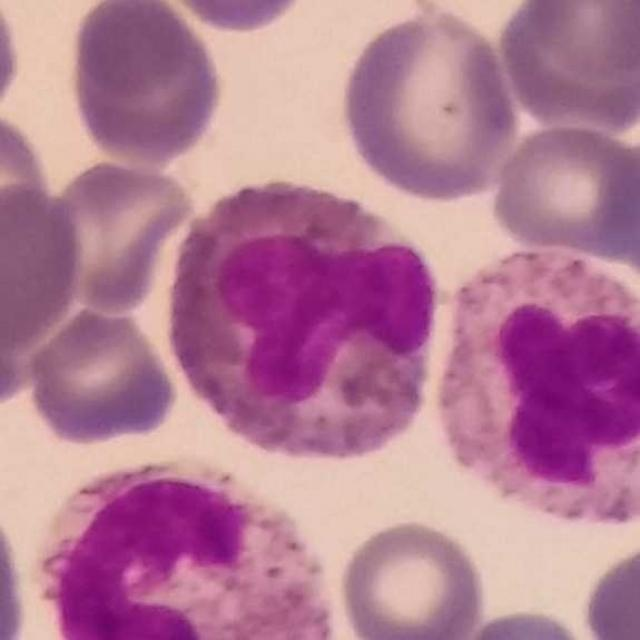Eosinophil: (172, 183, 442, 464), (432, 242, 640, 529)
RBC: (32, 461, 349, 640), (334, 3, 522, 204), (65, 0, 227, 167), (40, 157, 198, 317), (21, 298, 183, 450), (486, 125, 640, 265), (494, 0, 640, 136), (334, 514, 491, 640), (0, 167, 88, 346), (0, 104, 55, 258), (579, 536, 640, 640), (146, 0, 315, 36), (444, 604, 604, 640), (0, 493, 32, 640), (0, 1, 26, 125)
